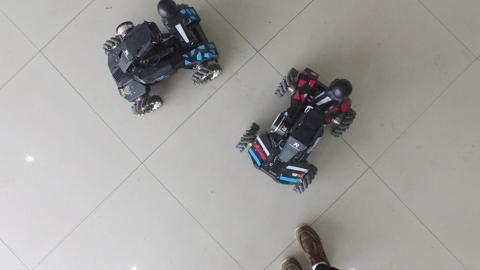chariot: (232, 60, 363, 196), (99, 1, 228, 117)
